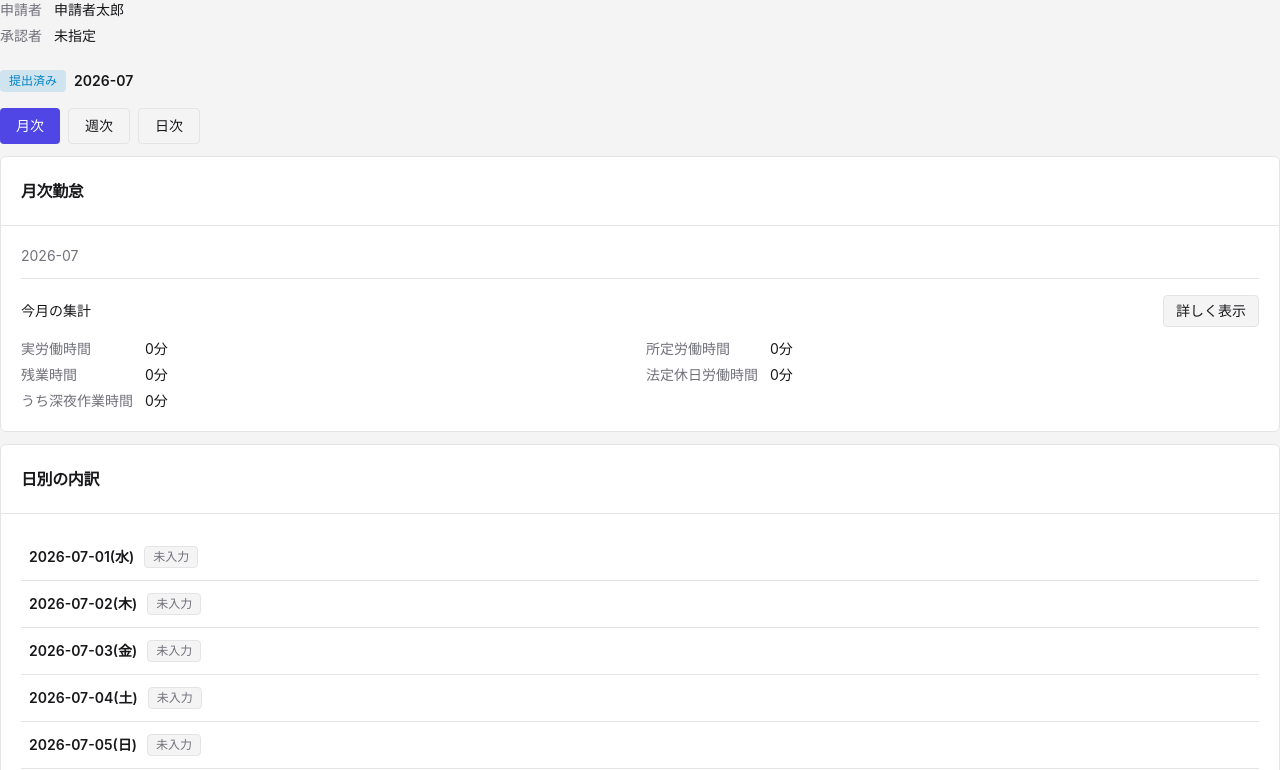
Test: ApprovalDetailPanel › switches between 月次・週次・日次 for an attendance month subject
This screenshot has width=1280, height=770.
Expected: the heading "月次勤怠" is shown, [21, 181, 83, 201]
Click the button "週次". click: click(99, 126)
box: [68, 108, 130, 144]
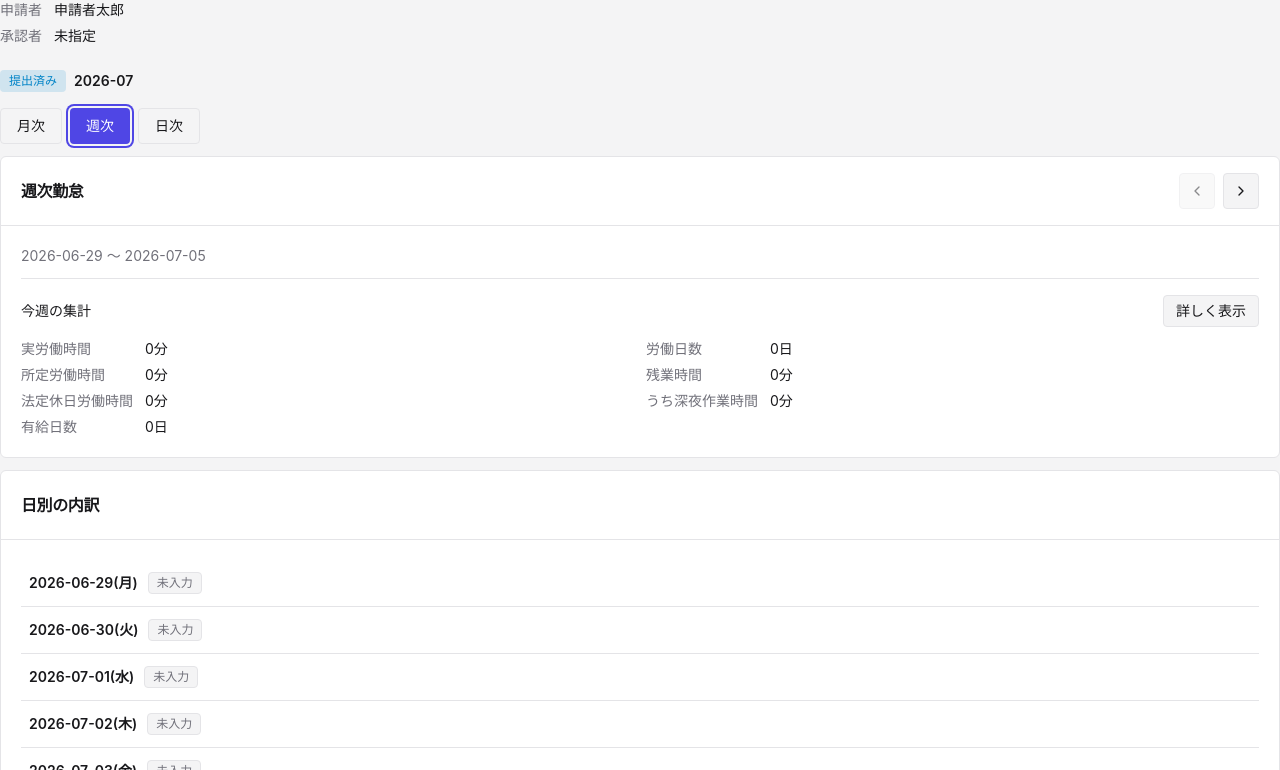
Result: the heading "週次勤怠" is shown at [21, 181, 83, 201]
Click the button "日次". click: click(169, 126)
box: [138, 108, 200, 144]
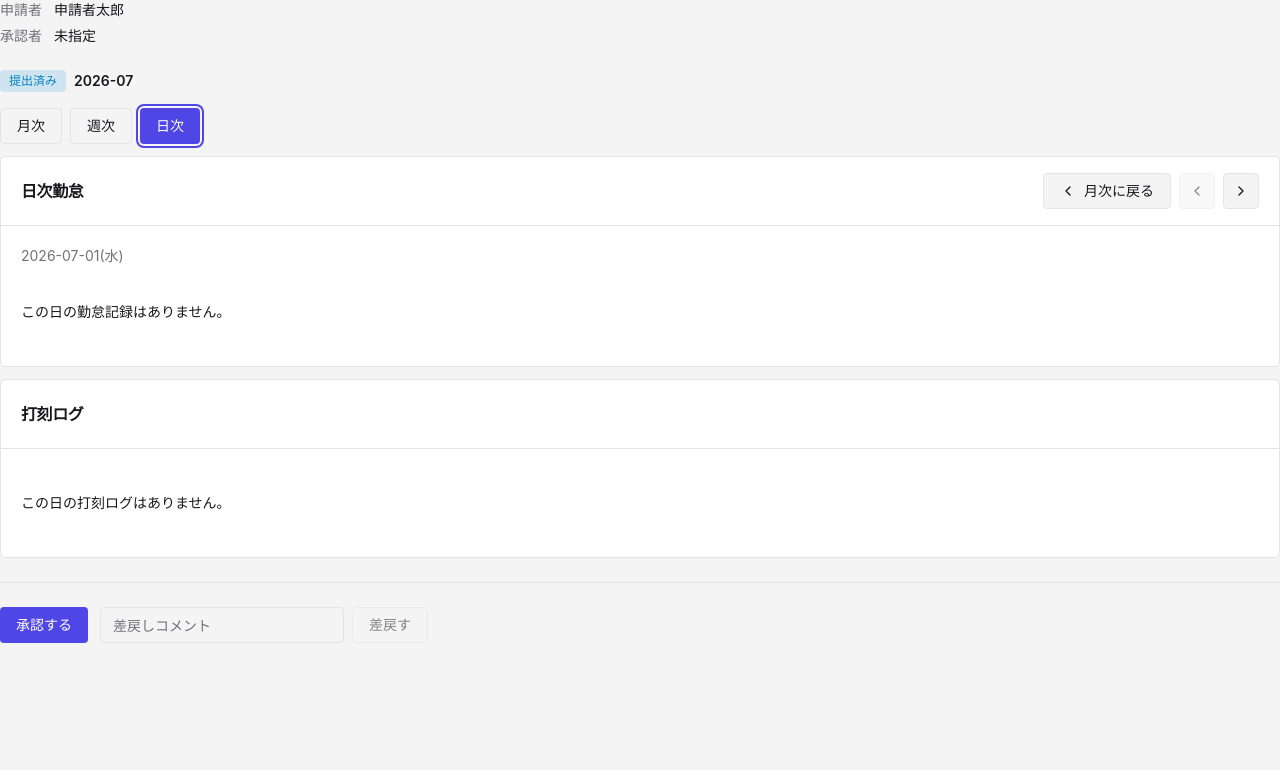
Result: the heading "日次勤怠" is shown at [21, 181, 83, 201]
Click the button "月次". click: click(31, 126)
box: [0, 108, 62, 144]
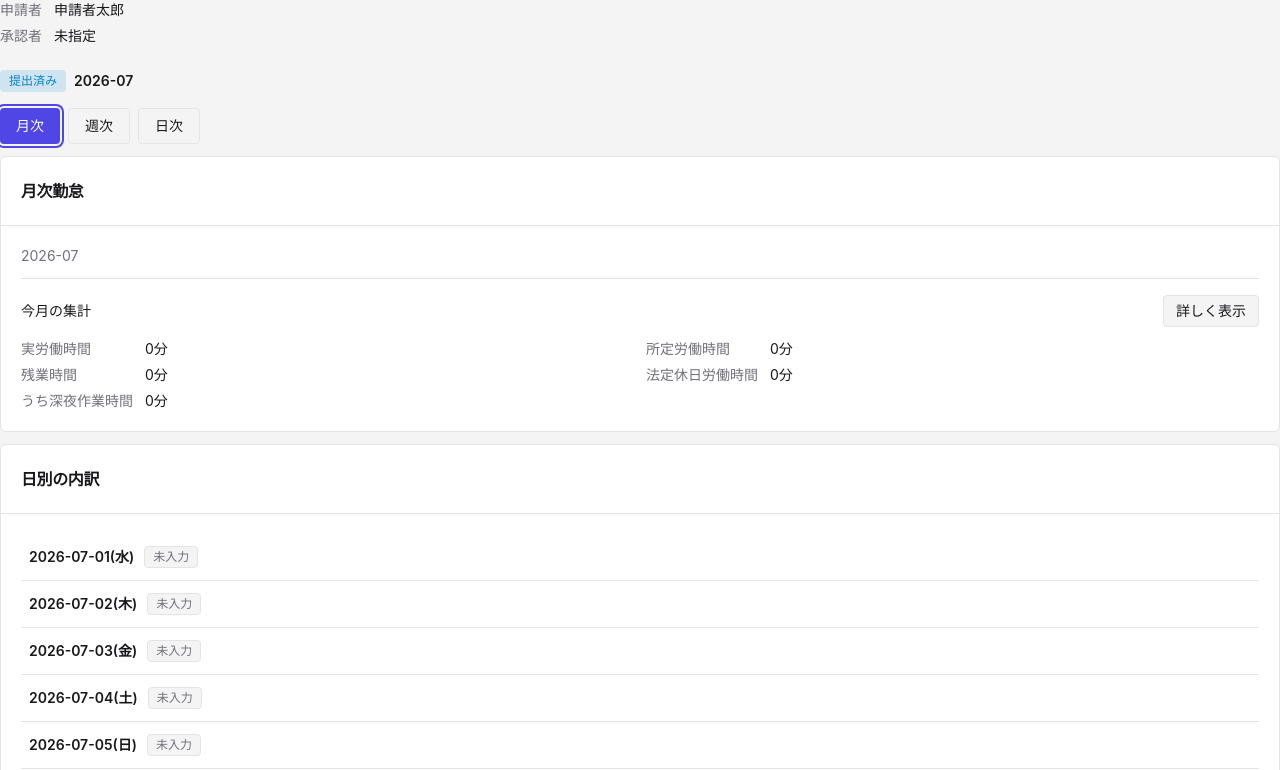
Result: the heading "月次勤怠" is shown at [21, 181, 83, 201]
